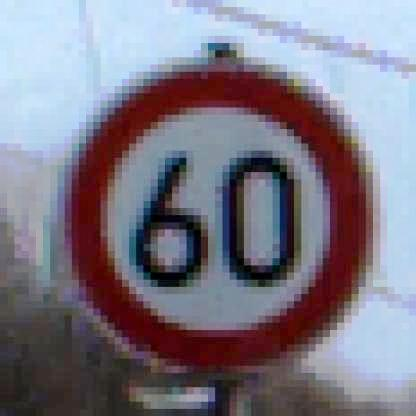Speed Limit -60-: (58, 60, 386, 380)
